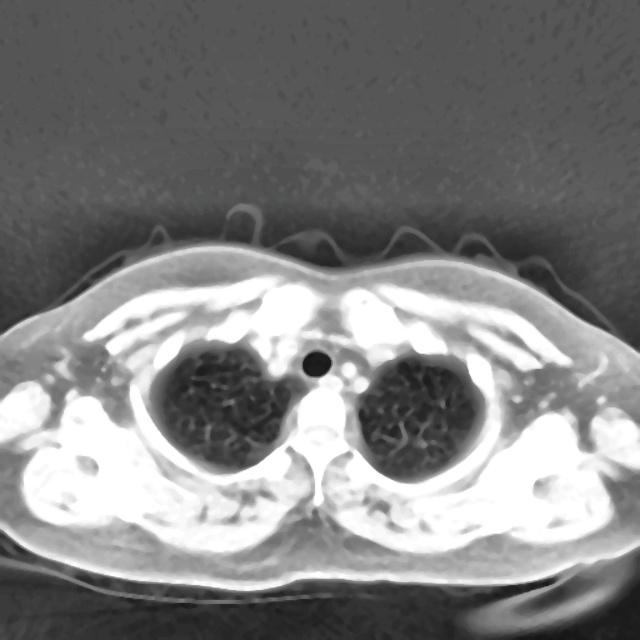covid: (0, 229, 639, 611)
